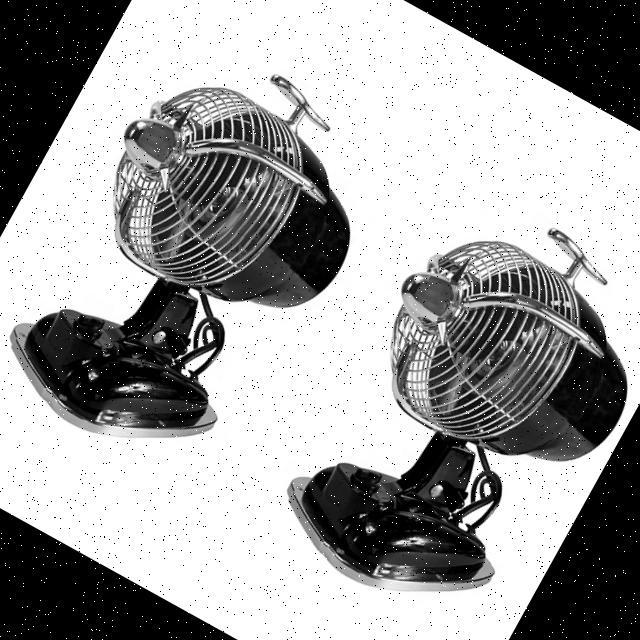fan: (0, 17, 414, 502), (260, 172, 640, 640)
